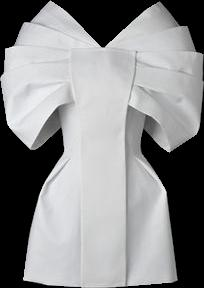Bodice: (28, 1, 180, 152)
Hemline: (22, 277, 178, 287)
Neckline: (49, 0, 159, 49)
Skirt: (23, 152, 177, 287)
Sleeve: (114, 24, 203, 152), (0, 22, 89, 149)
Sleeveline: (114, 22, 183, 48), (30, 20, 89, 46)
